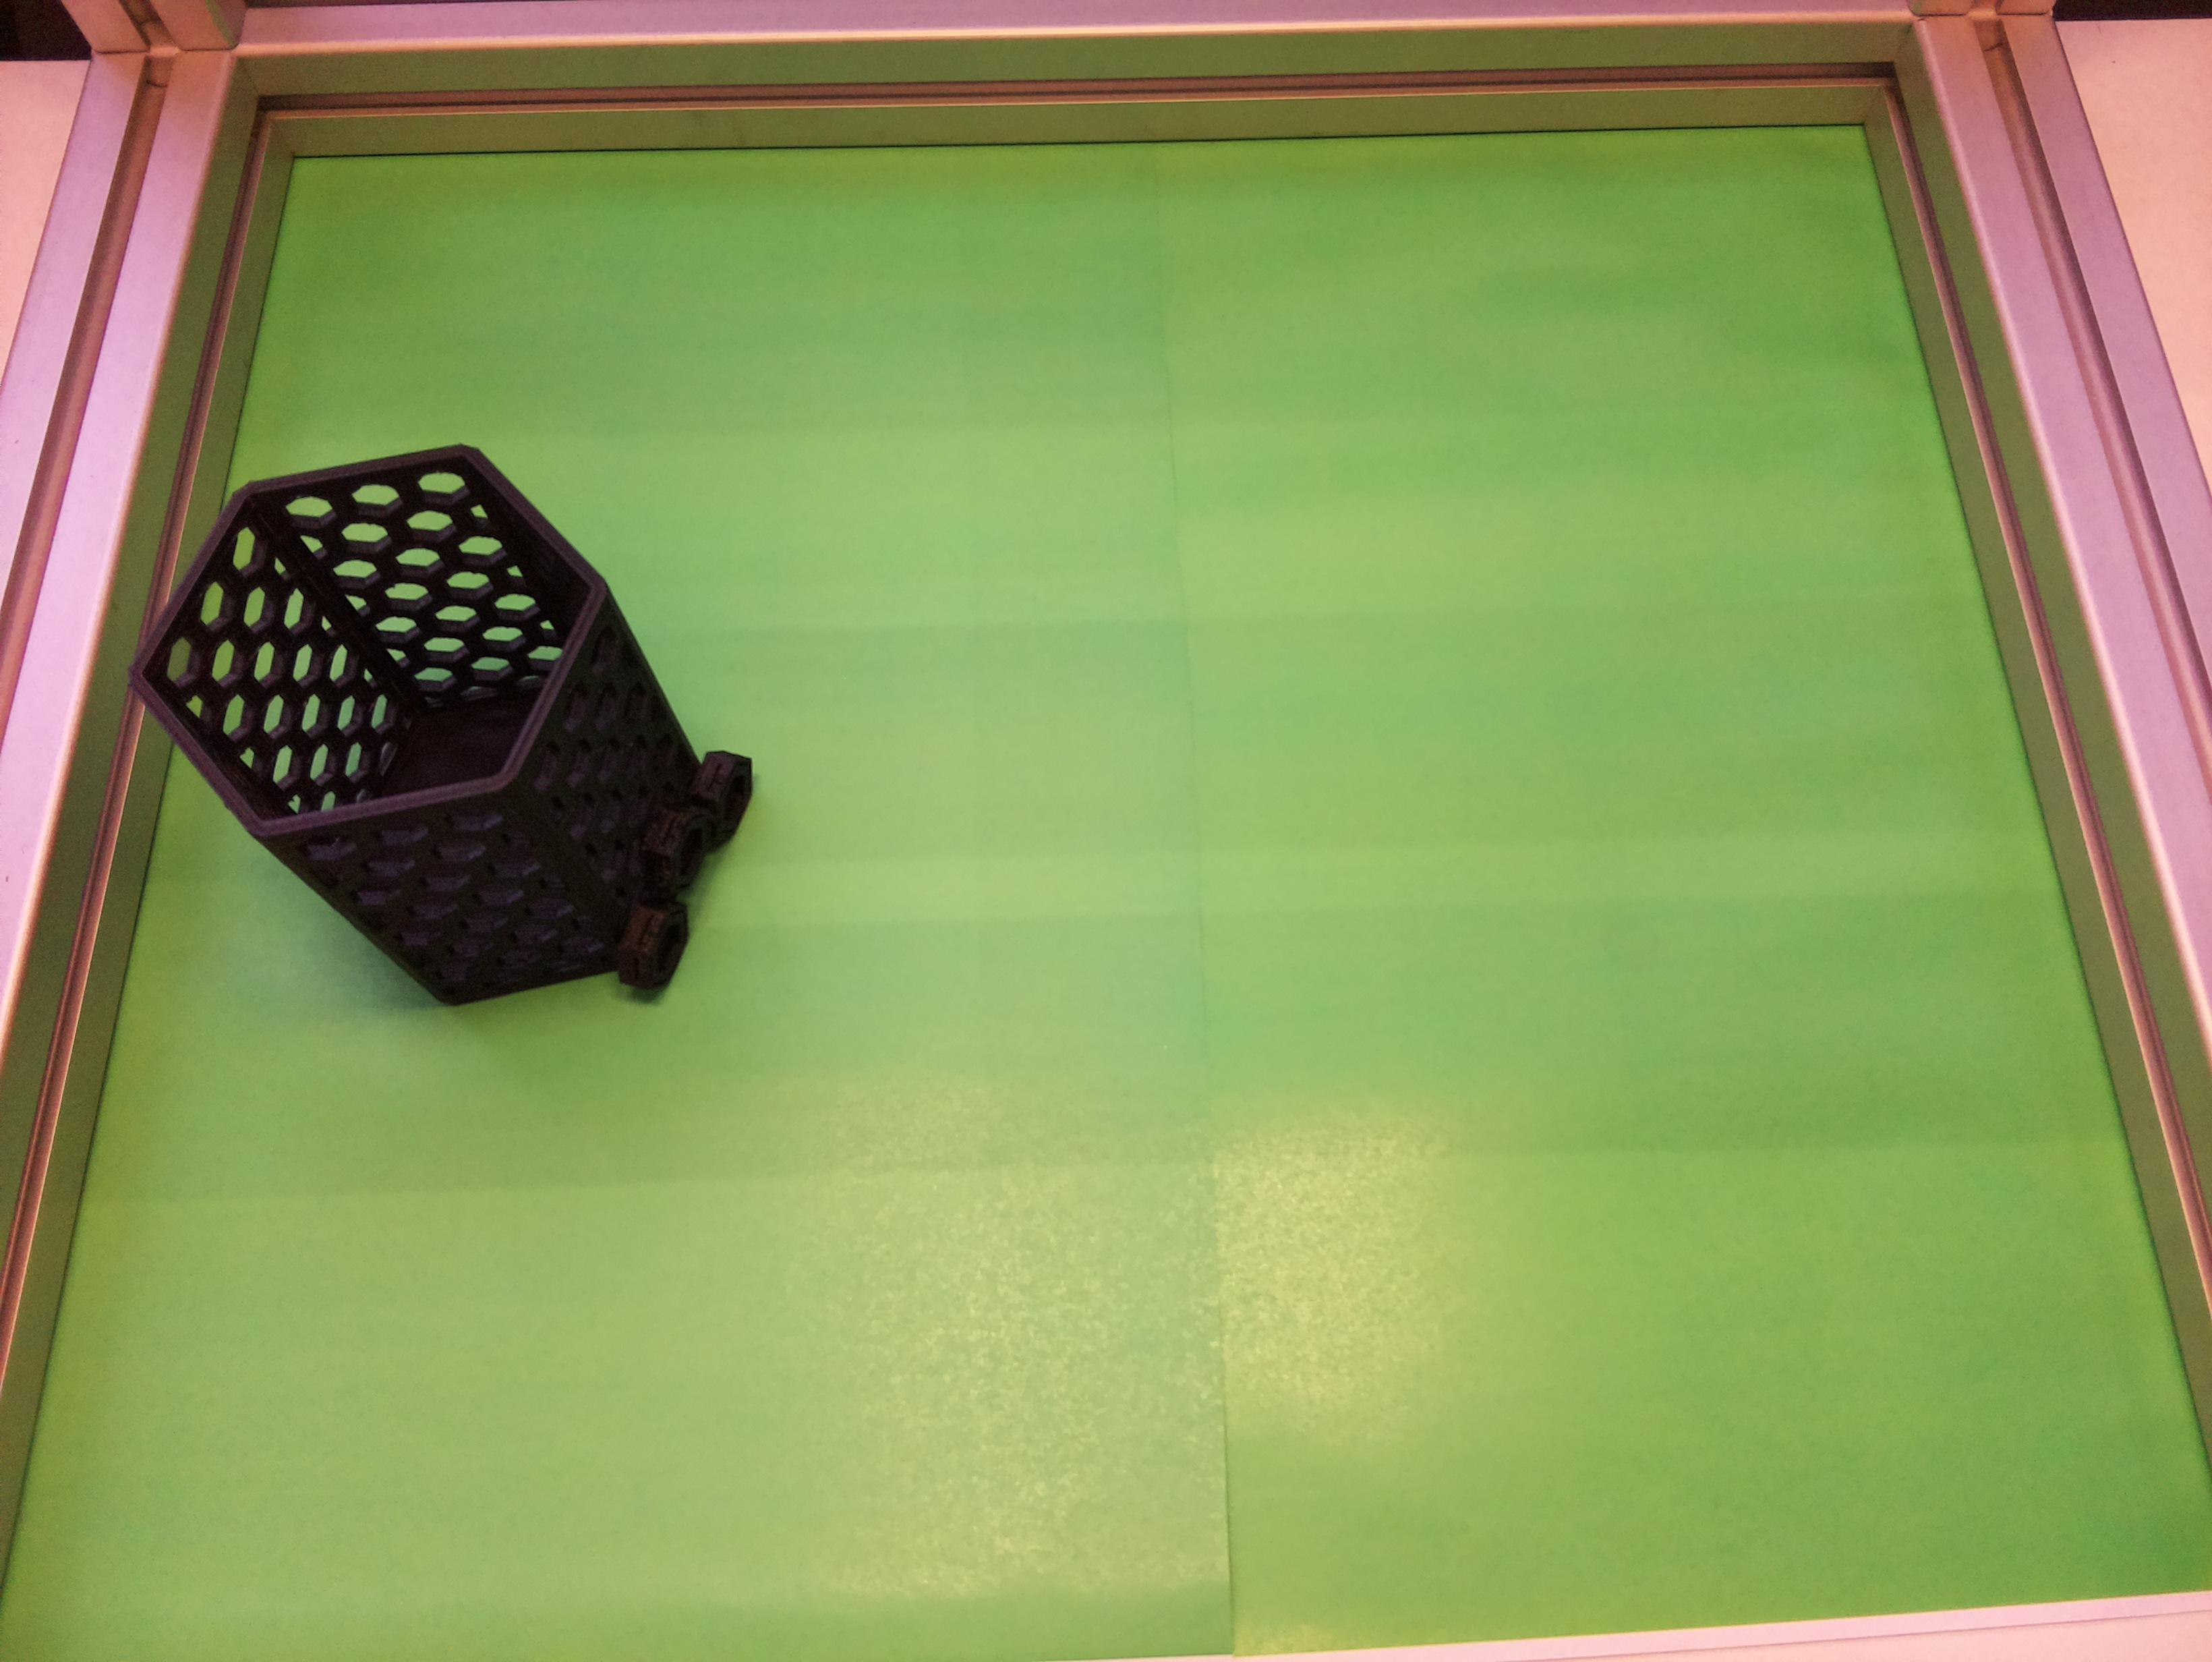cup_holder: (73, 351, 838, 1119)
